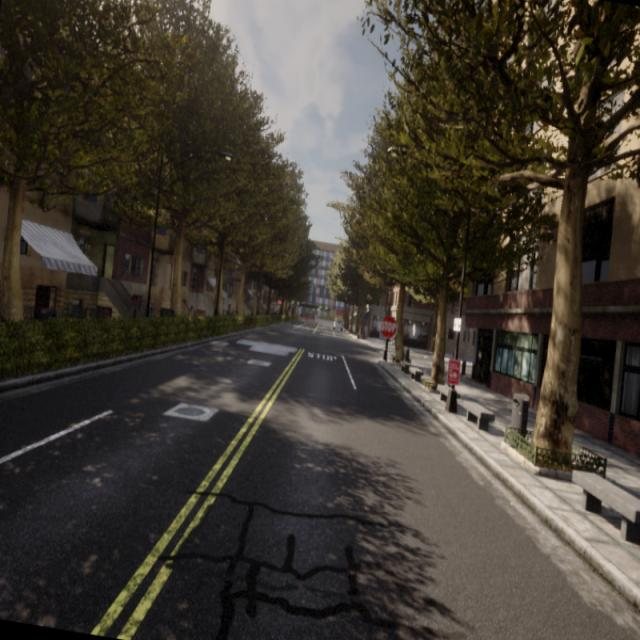stop sign: (378, 314, 398, 340)
